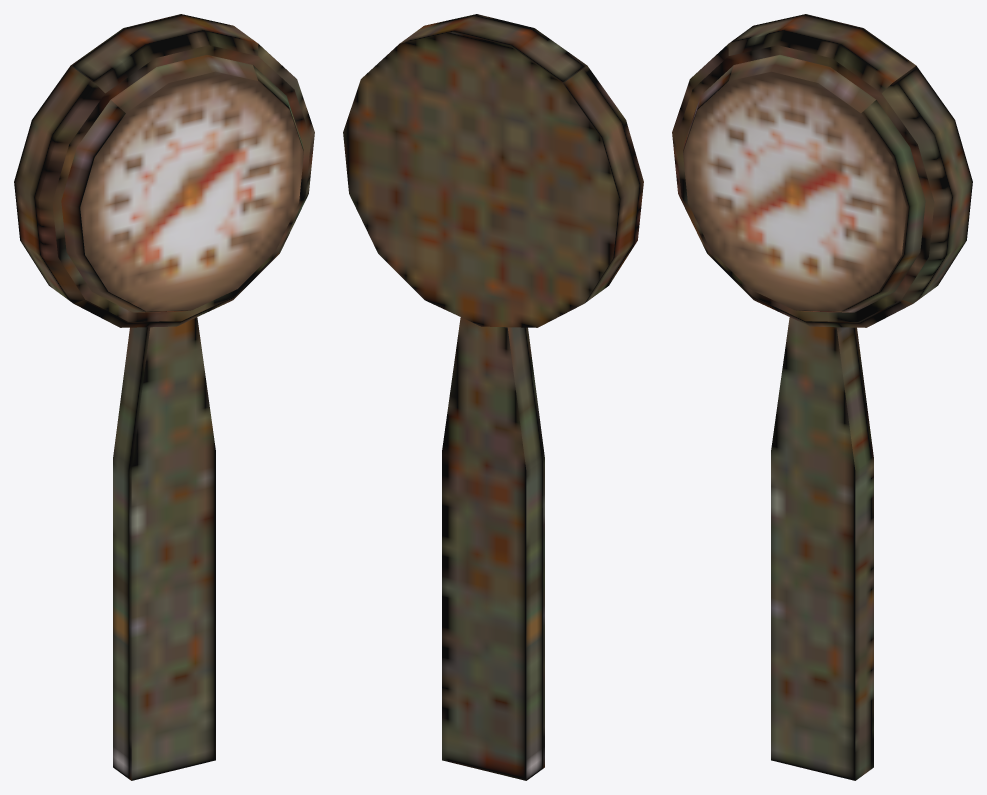
File: Pipe_Set_3_14.glb
3 renders of one model, left to right at view 1: azimuth 30°, elevation 25°; view 2: azimuth 150°, elevation 25°; view 3: azimuth 330°, elevation 25°, orthographic.
Visible parts, largest first — view 1: Pipe_Set_3_14; view 2: Pipe_Set_3_14; view 3: Pipe_Set_3_14.
Boxes of the visible parts, box(x1,y1,x2,y2) form: Pipe_Set_3_14: box(14, 14, 314, 780); Pipe_Set_3_14: box(343, 14, 643, 780); Pipe_Set_3_14: box(672, 14, 972, 780).
Size of the model in its own units: 0.0974 by 0.2471 by 0.0244.
1 material, 1 textured.
